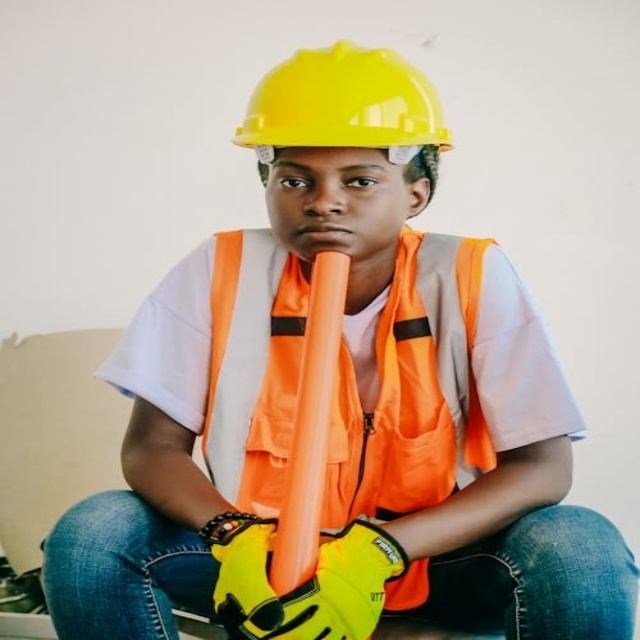Guantes: (289, 516, 409, 639), (208, 513, 286, 633)
Sin_gafas: (265, 160, 393, 197)
Sin_mascara: (283, 217, 364, 253)
